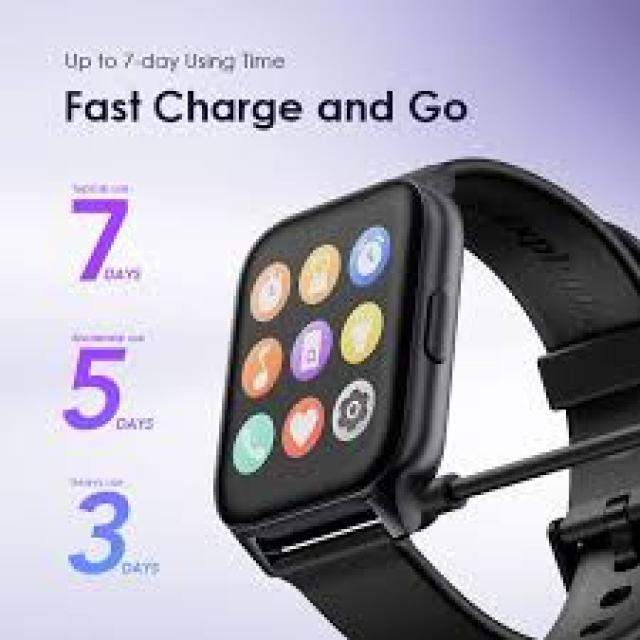watch: (212, 160, 470, 561)
